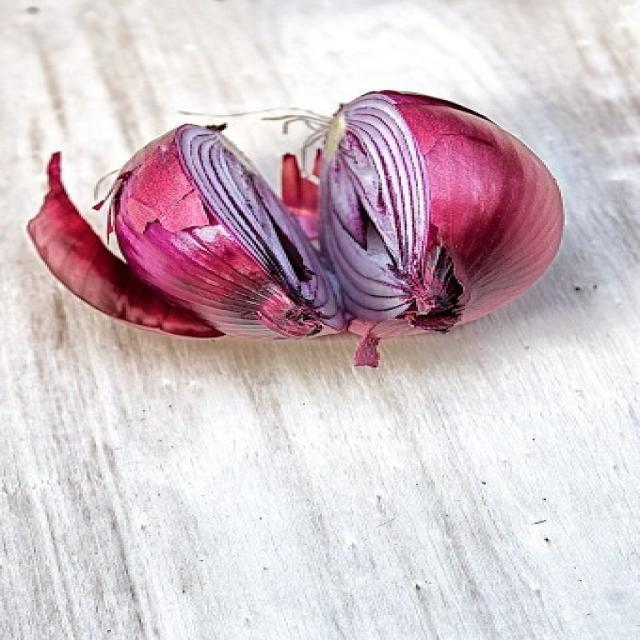onion: (31, 66, 584, 397)
